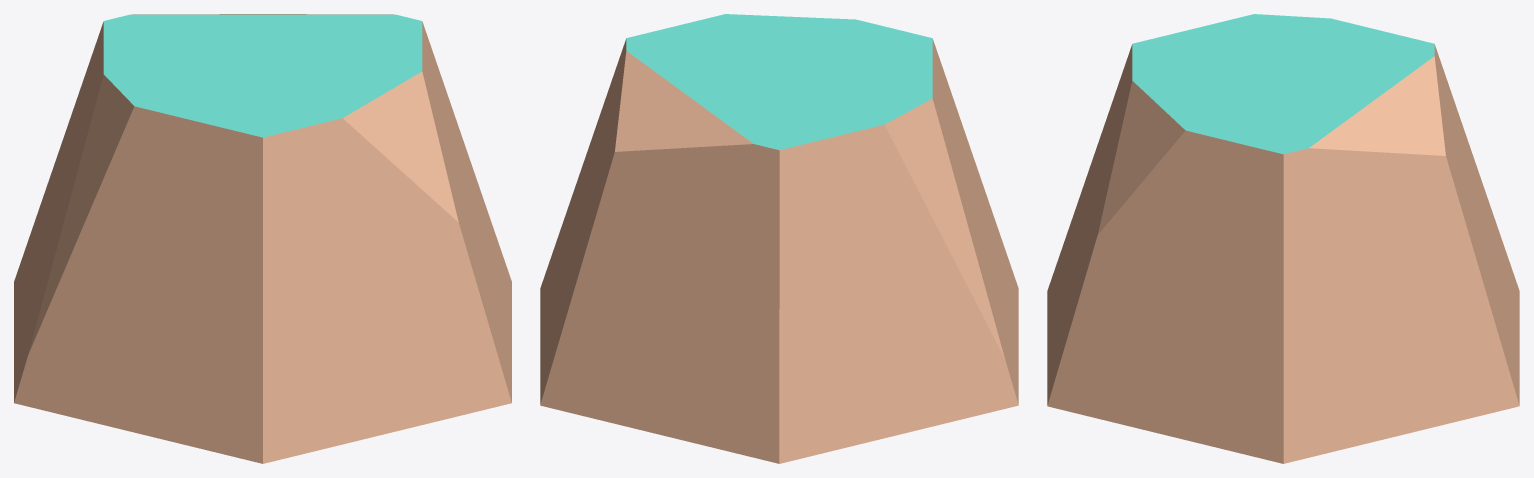
The model's file is rock_smallD.gltf.
3 views of the same model, side by side, from view 1: azimuth 30°, elevation 25°; view 2: azimuth 150°, elevation 25°; view 3: azimuth 270°, elevation 25° (orthographic). The views are drawn at different scales.
Parts seen in each view (by area): view 1: rock_smallD; view 2: rock_smallD; view 3: rock_smallD.
Part boxes in pixels (x1,y1,x2,y2): rock_smallD: [14, 14, 511, 463]; rock_smallD: [540, 14, 1018, 463]; rock_smallD: [1047, 14, 1519, 463].
Size of the model in its own units: 0.4257 by 0.2309 by 0.3687.
